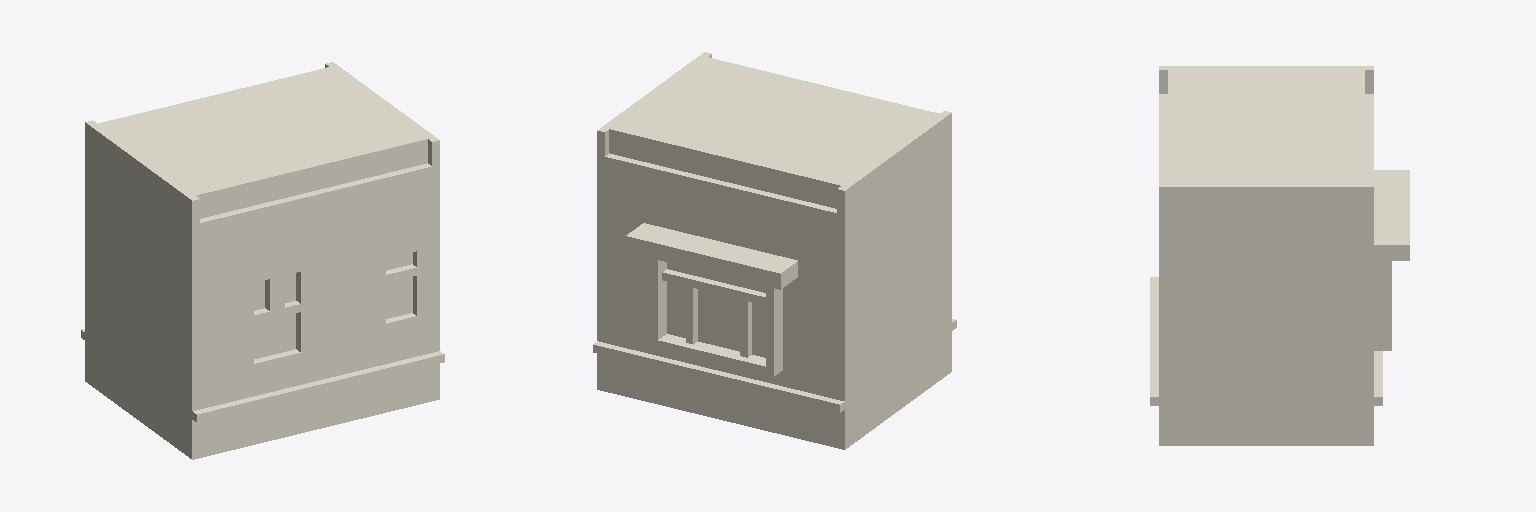
3 views of the same model, side by side, from view 1: azimuth 30°, elevation 25°; view 2: azimuth 150°, elevation 25°; view 3: azimuth 270°, elevation 25° (orthographic).
Parts seen in each view (by area): view 1: object 1; view 2: object 1; view 3: object 1.
Part boxes in pixels (x1,y1,x2,y2): object 1: (81,62,444,459); object 1: (593,52,956,449); object 1: (1150,66,1409,445).
Size of the model in its own units: 3.2 by 3.2 by 2.9.
Materials: 1 (1 with a texture image).